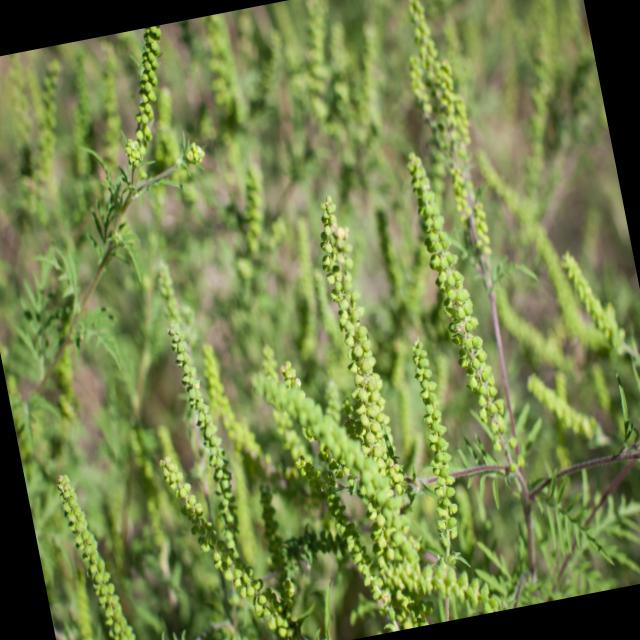ambrosia: (259, 175, 546, 512), (125, 305, 295, 640), (326, 474, 537, 634), (22, 442, 173, 640), (379, 0, 528, 186), (86, 21, 211, 189), (533, 227, 640, 399), (216, 142, 298, 266)
